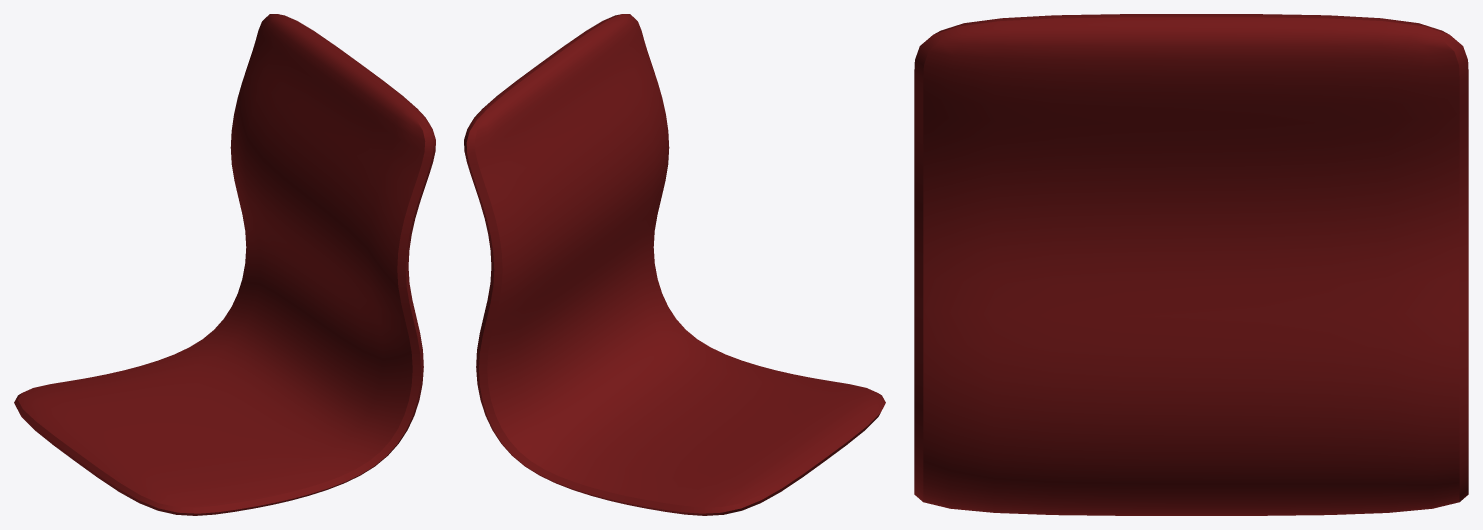
File: chair.glb
The picture shows the model from 3 angles, left to right: view 1: azimuth 30°, elevation 25°; view 2: azimuth 150°, elevation 25°; view 3: azimuth 270°, elevation 25°; orthographic projection. The views are drawn at different scales.
Visible parts, largest first — view 1: Cube.017; view 2: Cube.017; view 3: Cube.017.
Part boxes in pixels (x1,y1,x2,y2): Cube.017: [14, 14, 435, 515]; Cube.017: [464, 14, 885, 515]; Cube.017: [914, 14, 1468, 515].
Bounding box in the file's own units: 1.05 × 1.21 × 1.07.
